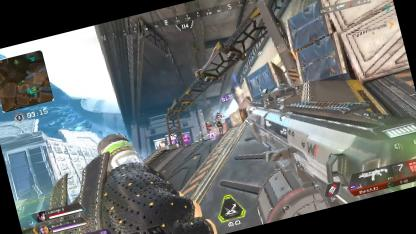Target: (212, 111, 227, 135)
